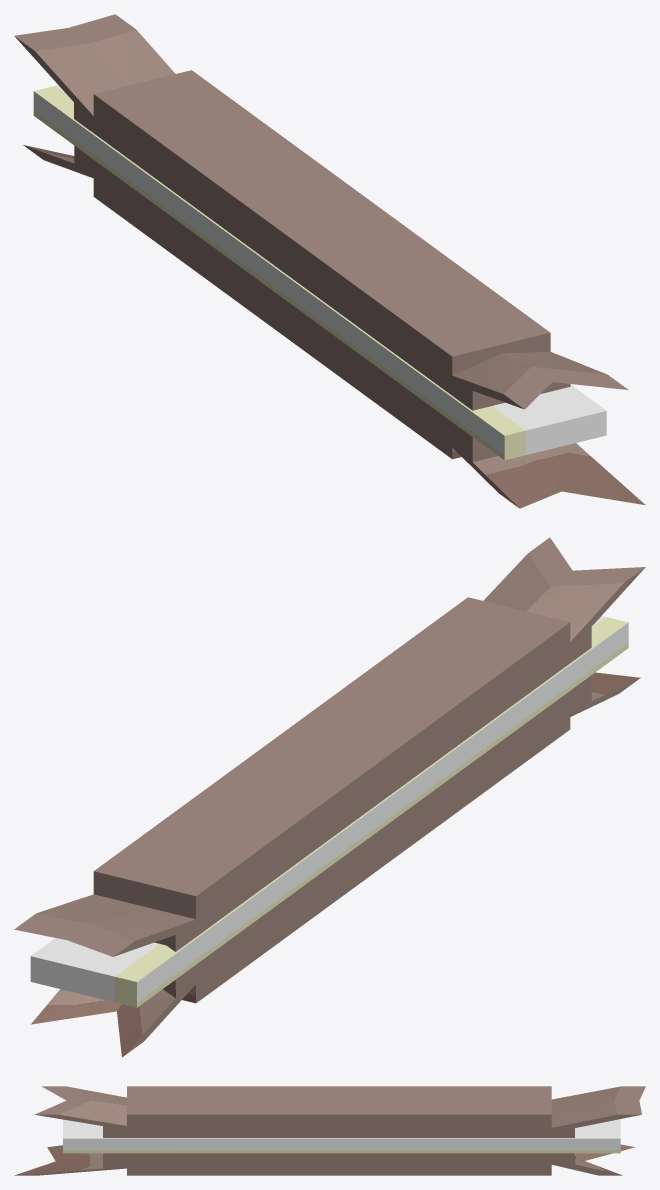
File: Money.obj
The picture shows the model from 3 angles, top to bottom: view 1: azimuth 30°, elevation 25°; view 2: azimuth 150°, elevation 25°; view 3: azimuth 270°, elevation 25°; orthographic projection. The views are drawn at different scales.
Visible parts, largest first — view 1: Money; view 2: Money; view 3: Money.
Boxes of the visible parts, <box> form: Money: <box>14,14,645,508</box>; Money: <box>14,537,645,1057</box>; Money: <box>14,1086,645,1175</box>.
Bounding box in the file's own units: 0.0208 × 0.02 × 0.1884.
1 material, 1 textured.
